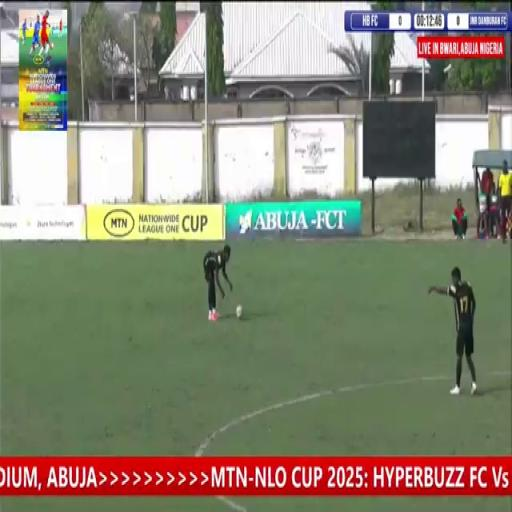ball: (236, 294, 246, 322)
referee: (496, 159, 512, 241)
team2: (435, 243, 484, 404), (197, 236, 234, 318)
